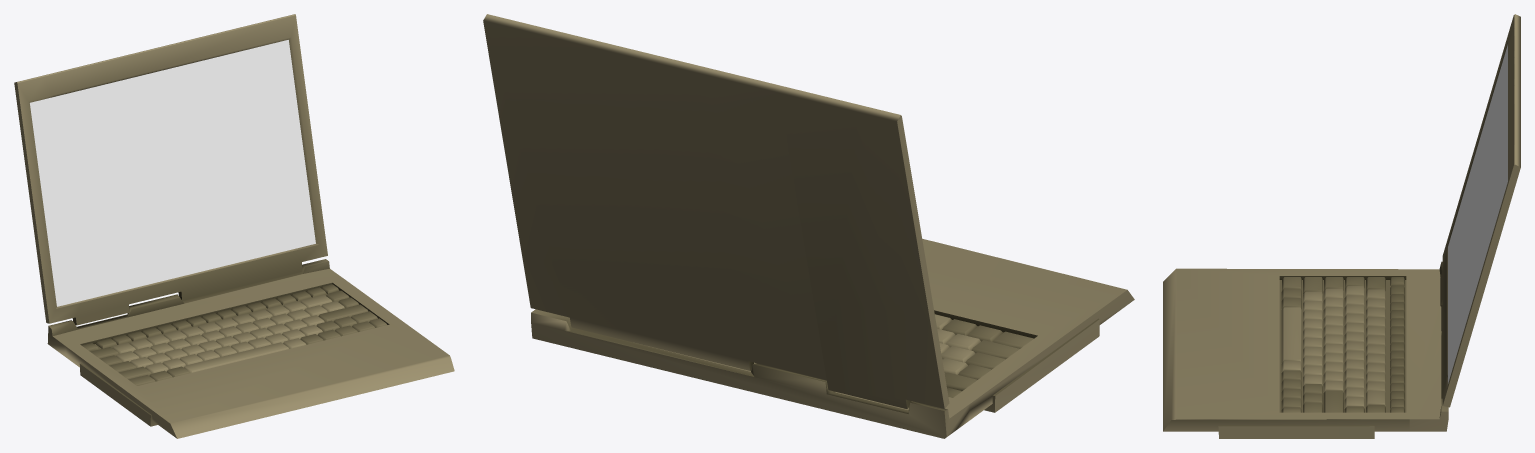
File: human-electronics-retro-laptop_v1.glb
3 renders of one model, left to right at view 1: azimuth 30°, elevation 25°; view 2: azimuth 150°, elevation 25°; view 3: azimuth 270°, elevation 25°, orthographic. The views are drawn at different scales.
Visible parts, largest first — view 1: Retro Laptop; view 2: Retro Laptop; view 3: Retro Laptop.
Part boxes in pixels (x1,y1,x2,y2): Retro Laptop: (14, 14, 454, 438); Retro Laptop: (483, 14, 1134, 438); Retro Laptop: (1163, 14, 1520, 438).
Bounding box in the file's own units: 0.35 × 0.2942 × 0.349.
